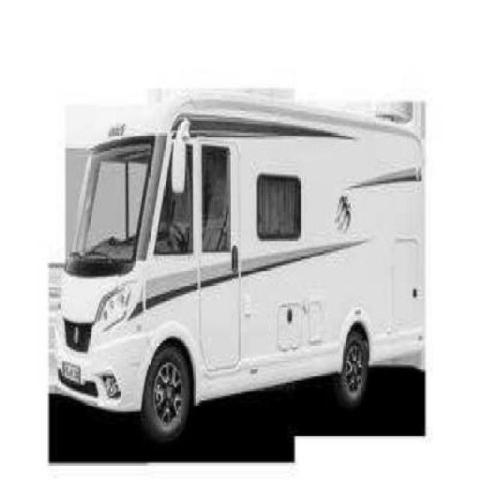van: (62, 98, 427, 440)
